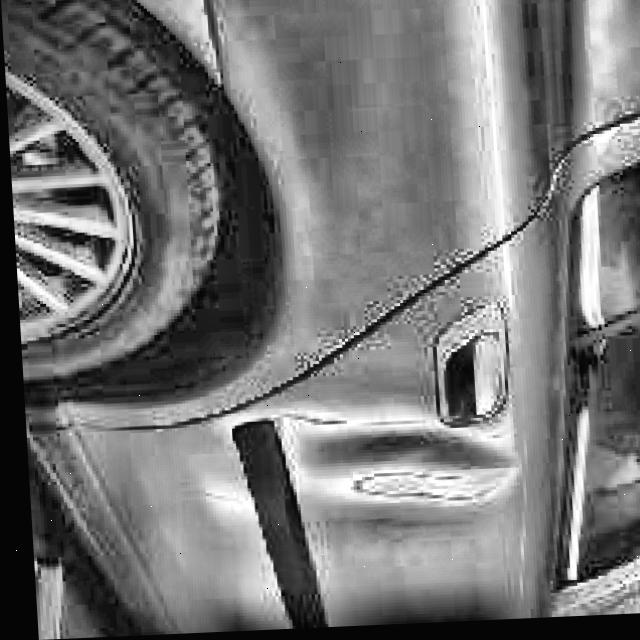door_dent: (204, 401, 503, 524)
